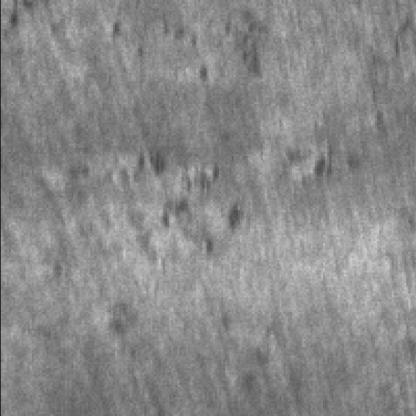rolled-in_scale: (107, 154, 245, 262), (287, 96, 391, 187)
